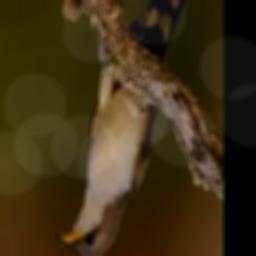Cuckoo: (56, 0, 192, 256)
